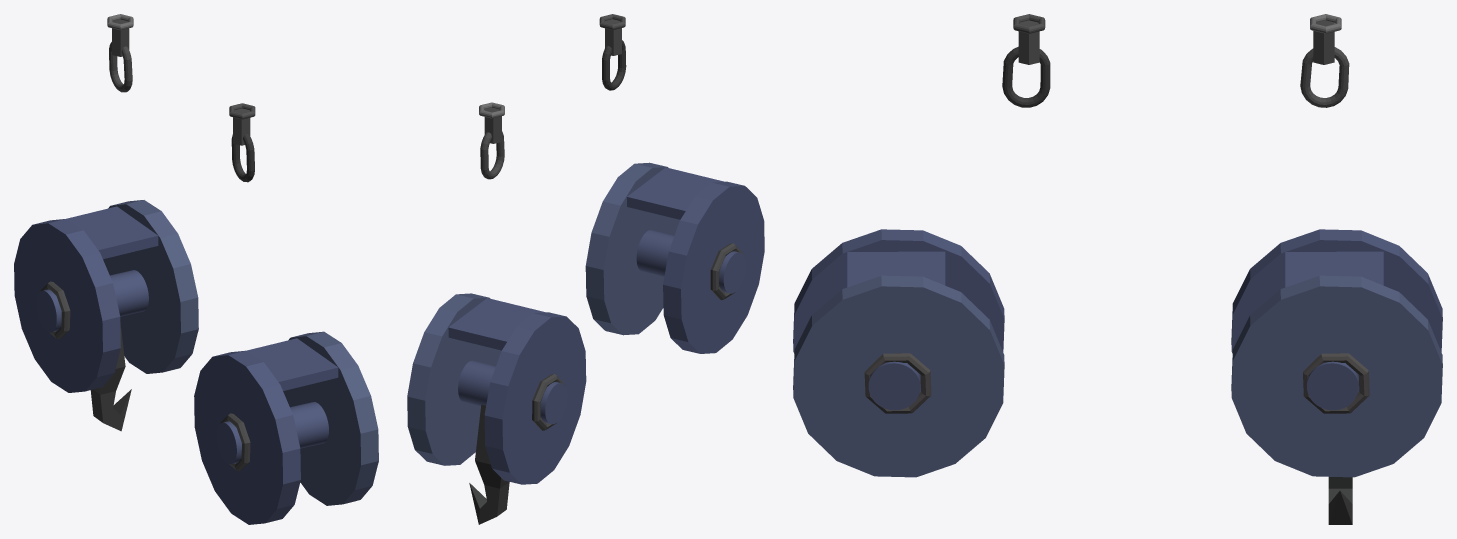
Rendered from hualun3.fbx.
3 renders of one model, left to right at view 1: azimuth 30°, elevation 25°; view 2: azimuth 150°, elevation 25°; view 3: azimuth 270°, elevation 25°, orthographic. The views are drawn at different scales.
Parts seen in each view (by area): view 1: 柱体.002, 柱体.008, 立方体.001, 环体.004, 环体.003, 环体.008, 环体.005, 柱体.001, 柱体; view 2: 柱体.002, 柱体.008, 立方体.001, 环体.004, 环体.003, 环体.005, 环体.008, 柱体.001, 柱体; view 3: 柱体.008, 柱体.002, 环体.003, 环体.004, 立方体.001, 柱体, 柱体.001.
Boxes of the visible parts, x1=… form: 柱体.002: x1=194, y1=331, x2=378, y2=524; 柱体.008: x1=14, y1=200, x2=198, y2=392; 立方体.001: x1=90, y1=322, x2=131, y2=431; 环体.004: x1=109, y1=42, x2=132, y2=92; 环体.003: x1=231, y1=134, x2=254, y2=182; 环体.008: x1=40, y1=281, x2=70, y2=339; 环体.005: x1=220, y1=413, x2=250, y2=471; 柱体.001: x1=112, y1=19, x2=129, y2=56; 柱体: x1=233, y1=108, x2=250, y2=145; 柱体.002: x1=585, y1=162, x2=764, y2=353; 柱体.008: x1=407, y1=293, x2=586, y2=484; 立方体.001: x1=469, y1=404, x2=509, y2=524; 环体.004: x1=480, y1=131, x2=504, y2=179; 环体.003: x1=602, y1=40, x2=626, y2=90; 环体.005: x1=710, y1=243, x2=743, y2=300; 环体.008: x1=532, y1=373, x2=564, y2=430; 柱体.001: x1=484, y1=107, x2=501, y2=143; 柱体: x1=605, y1=19, x2=621, y2=55; 柱体.008: x1=1231, y1=229, x2=1442, y2=477; 柱体.002: x1=793, y1=229, x2=1004, y2=477; 环体.003: x1=1002, y1=46, x2=1050, y2=107; 环体.004: x1=1300, y1=47, x2=1349, y2=107; 立方体.001: x1=1328, y1=477, x2=1352, y2=524; 柱体: x1=1018, y1=20, x2=1039, y2=64; 柱体.001: x1=1313, y1=20, x2=1334, y2=64.
Bounding box in the file's own units: 786 × 2677 × 3134.
